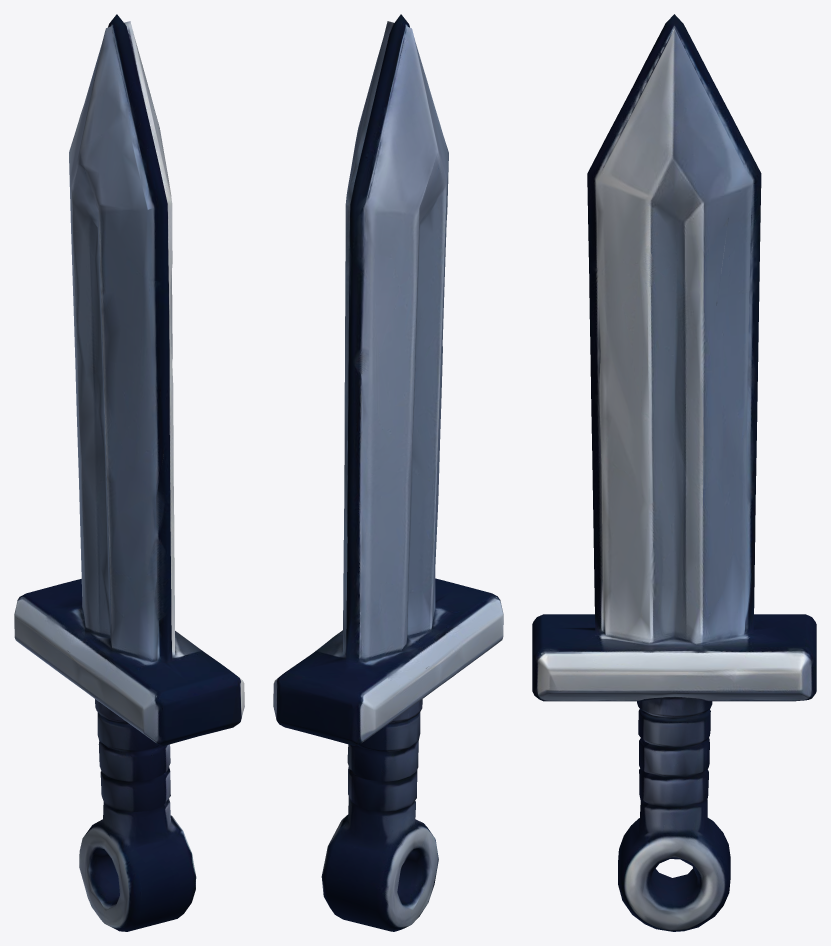
Rendered from gear_weapon_n_1.glb.
3 views of the same model, side by side, from view 1: azimuth 30°, elevation 25°; view 2: azimuth 150°, elevation 25°; view 3: azimuth 270°, elevation 25° (orthographic).
Parts seen in each view (by area): view 1: Weapon; view 2: Weapon; view 3: Weapon.
Boxes of the visible parts, x1,y1,x2,y2 form: Weapon: [14, 14, 244, 931]; Weapon: [273, 14, 503, 931]; Weapon: [532, 14, 816, 931].
Size of the model in its own units: 0.1155 by 0.9808 by 0.2821.
Materials: 1 (1 with a texture image).
